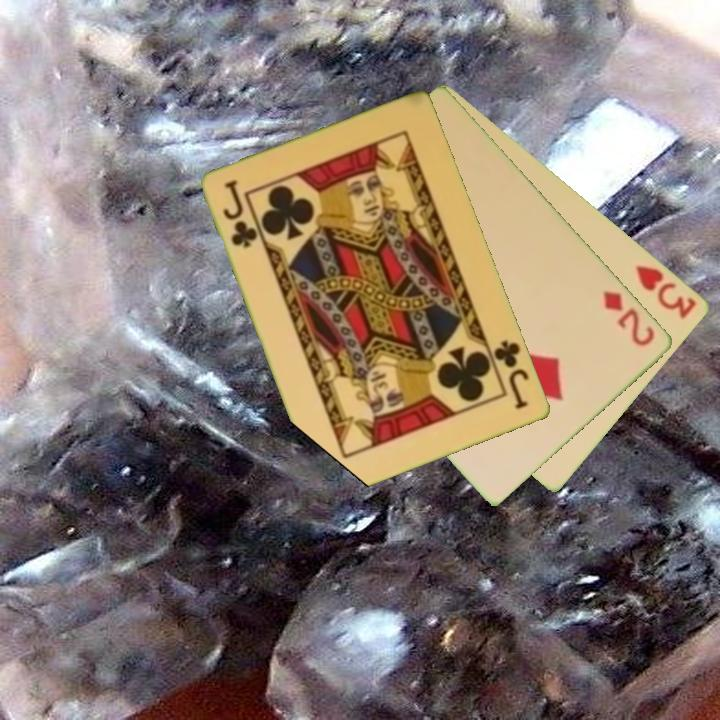2d: (599, 287, 659, 350)
3h: (632, 261, 700, 322)
Jc: (485, 336, 533, 412), (220, 176, 261, 251)
